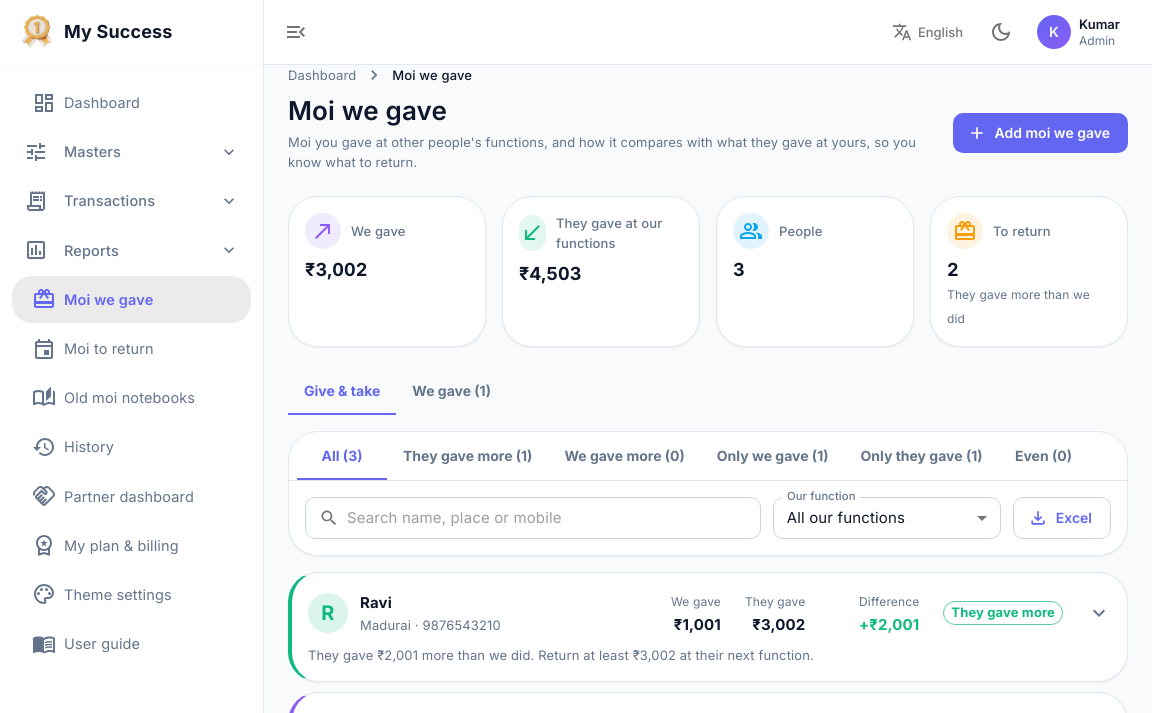
Scenario: Moi we gave › shows give & take per person with advice, and each gift when opened
Expected: the text "Return at least ₹3,002 at their next function" is shown, [308, 647, 814, 663]
Click the text "Ravi". click: [376, 602]
box: [360, 592, 392, 612]
(page scrolled)
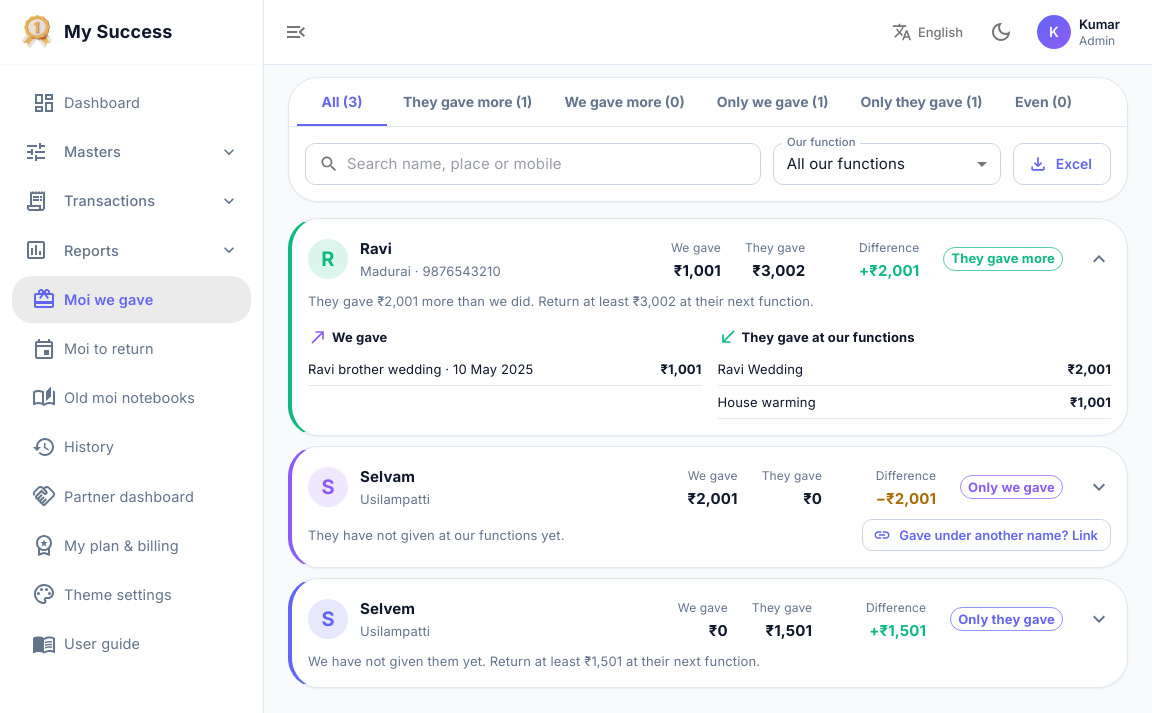
Expected: the text "Ravi brother wedding · 10 May 2025" is shown, [308, 359, 533, 379]
Expected: the text "House warming" is shown, [718, 392, 816, 412]
